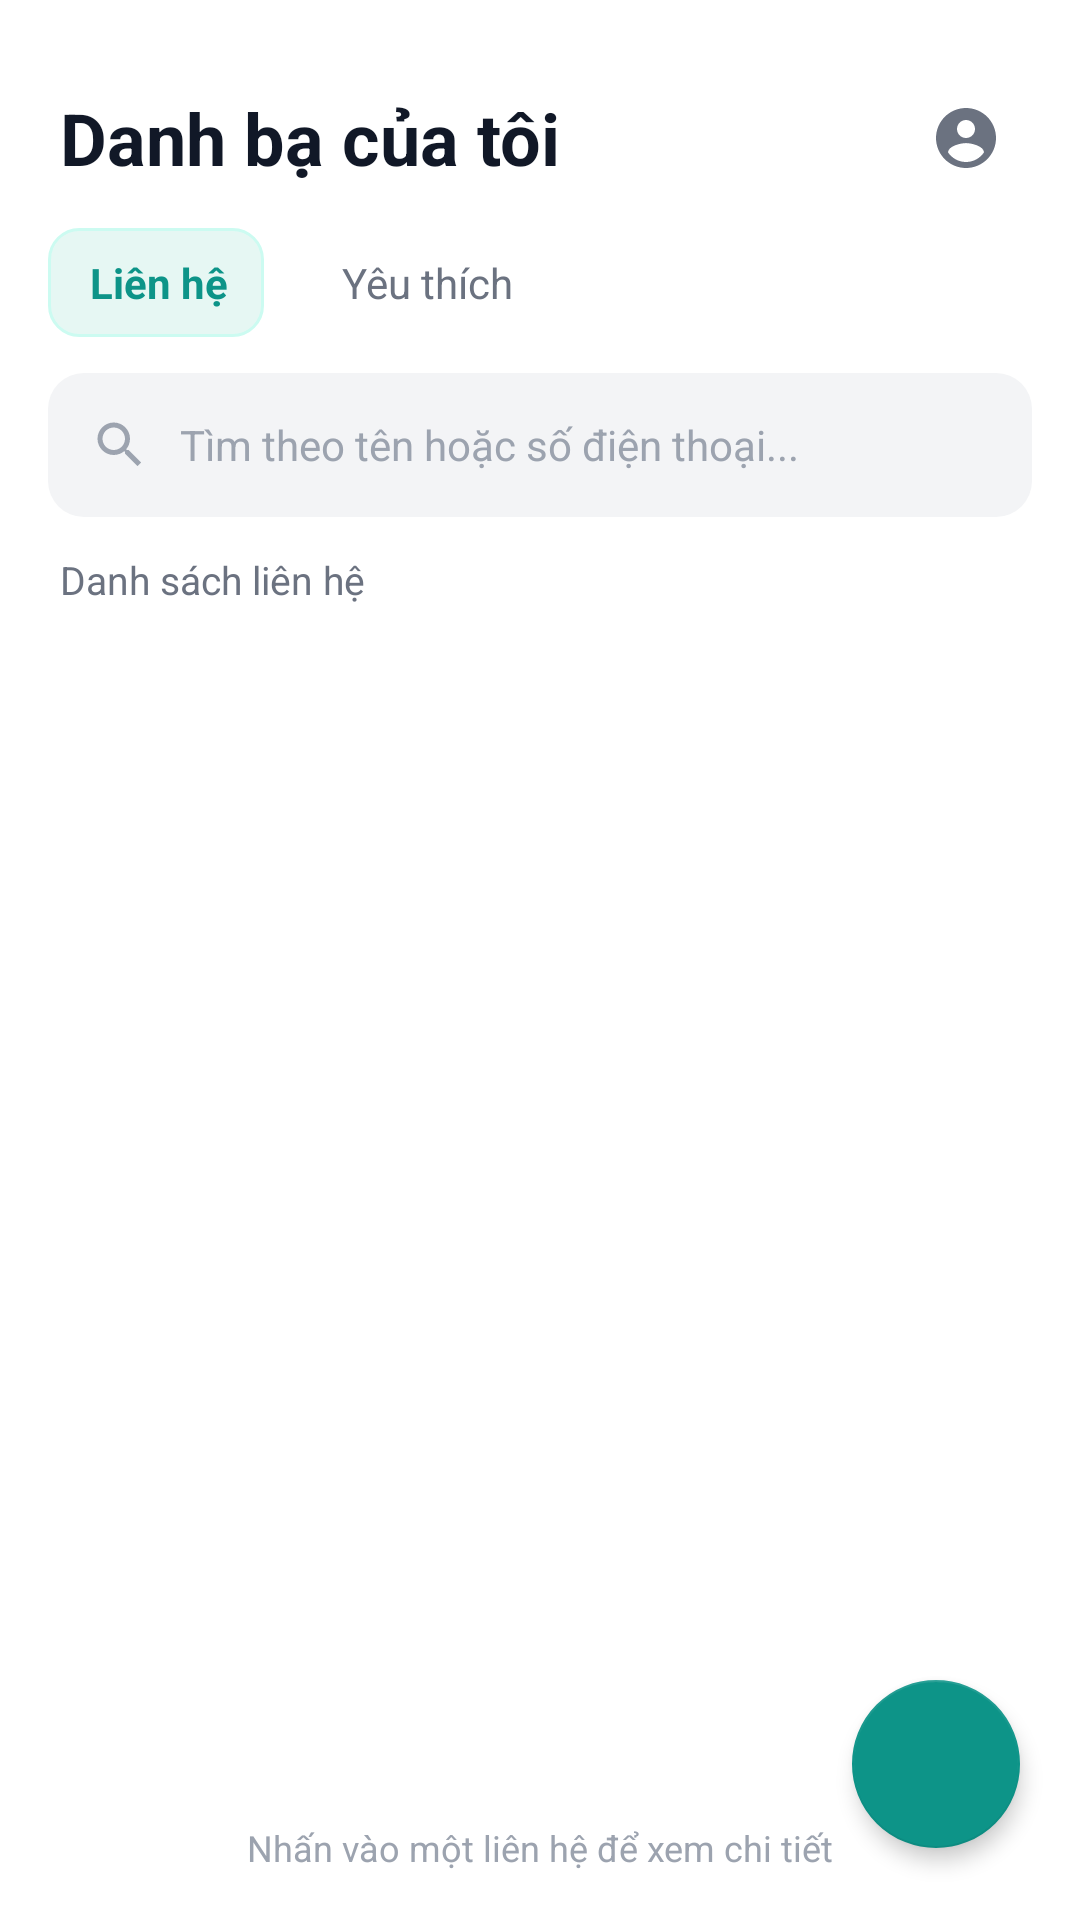

Icon click points for this 1080w x 1920h phone screenshot, format point (x, y):
person: point (966, 138)
search: point (119, 444)
